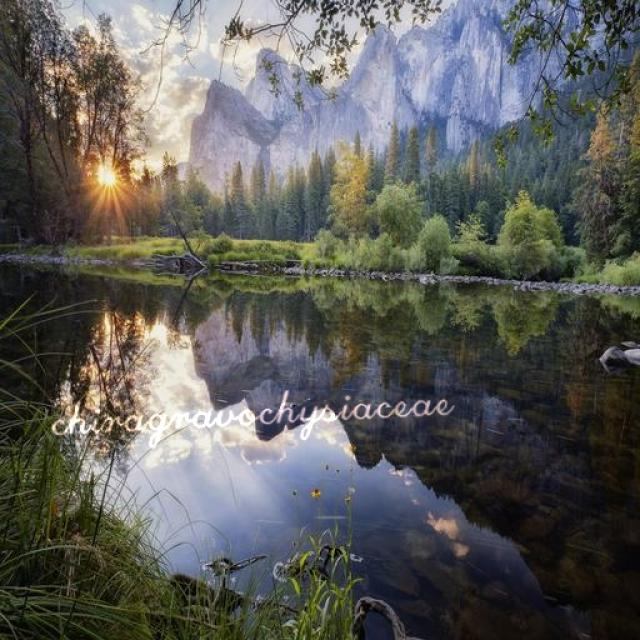watermark: (40, 379, 453, 442)
